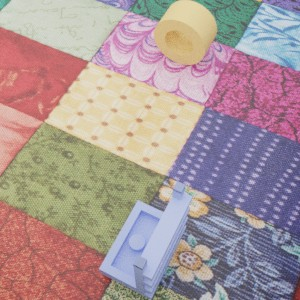lego: (99, 180, 192, 299), (153, 0, 217, 64)
